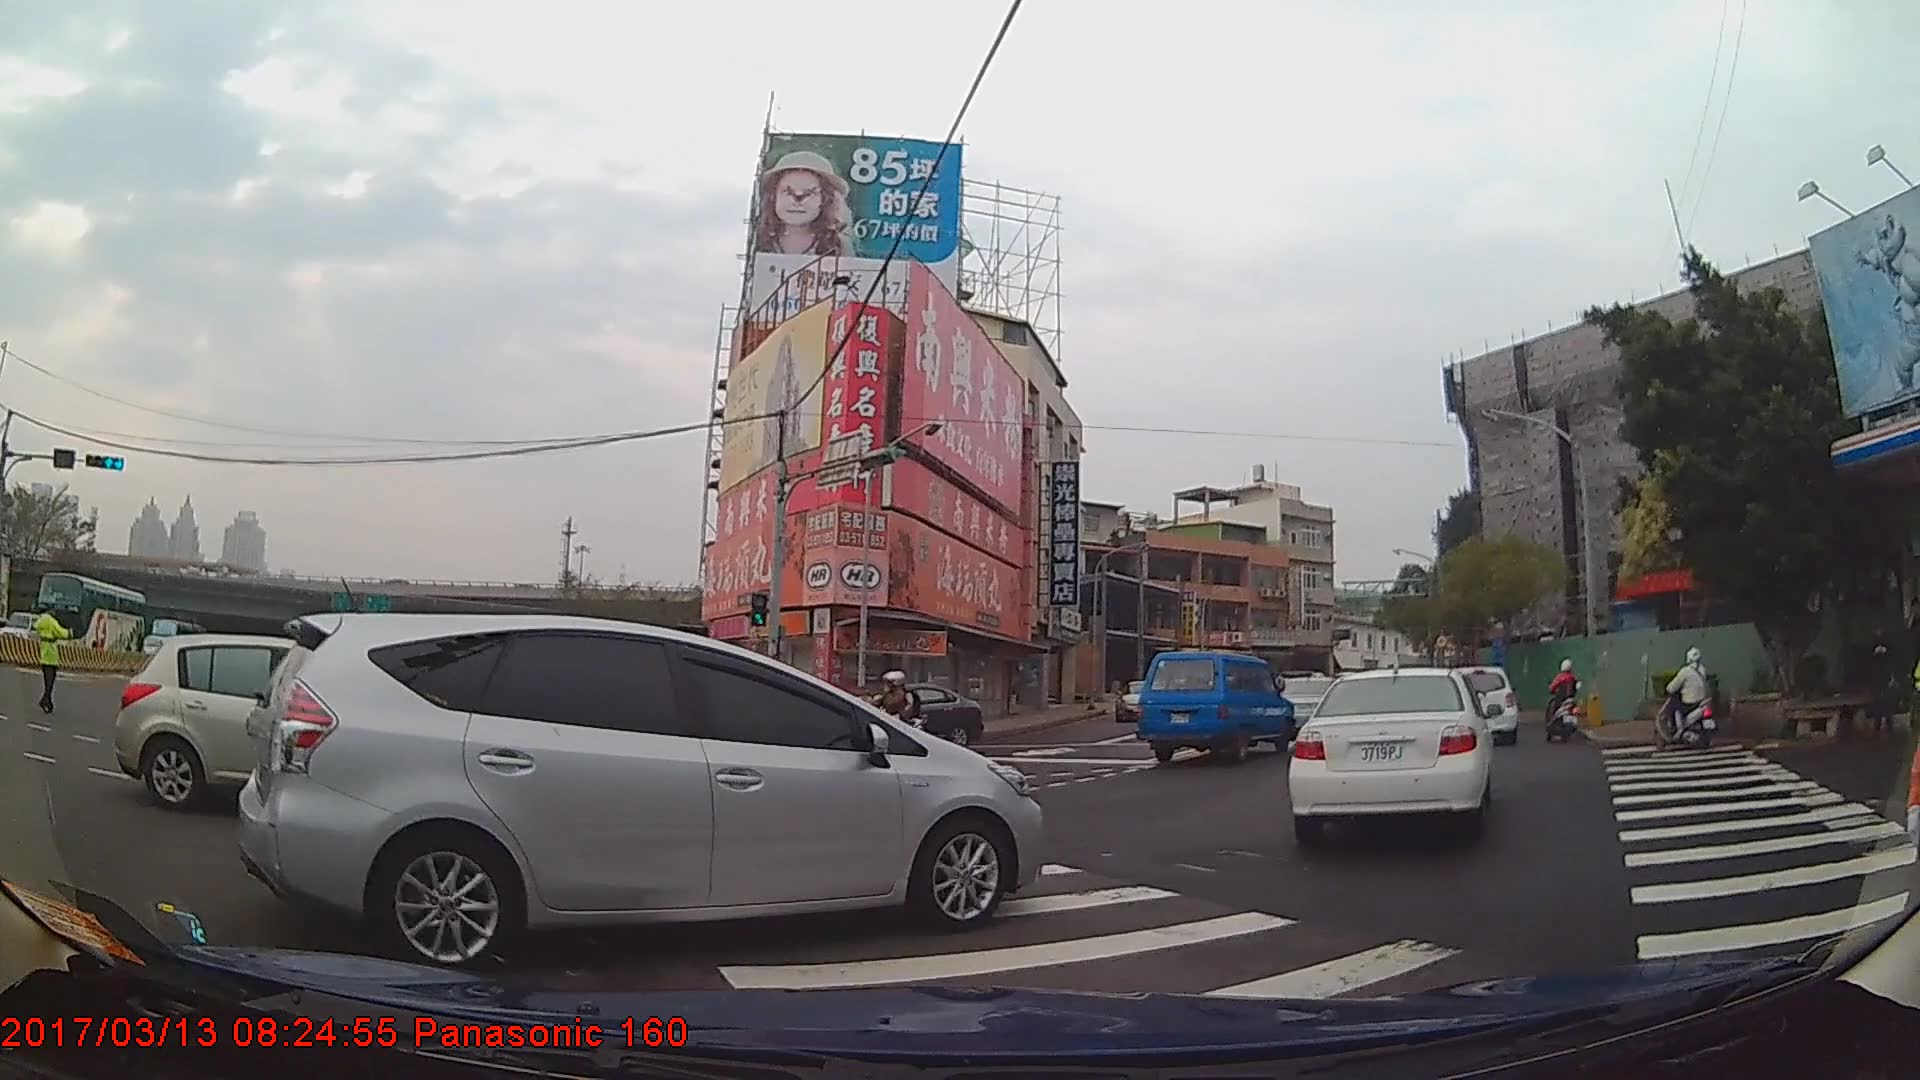pedestrian: (31, 597, 75, 713), (1862, 621, 1900, 737)
rider: (1655, 644, 1717, 750), (1544, 661, 1583, 740)
vehicle: (237, 613, 1043, 971), (114, 630, 439, 810), (1288, 667, 1492, 843), (1135, 649, 1293, 762), (34, 568, 148, 663), (837, 681, 982, 748), (1443, 664, 1518, 745), (0, 607, 43, 655)
